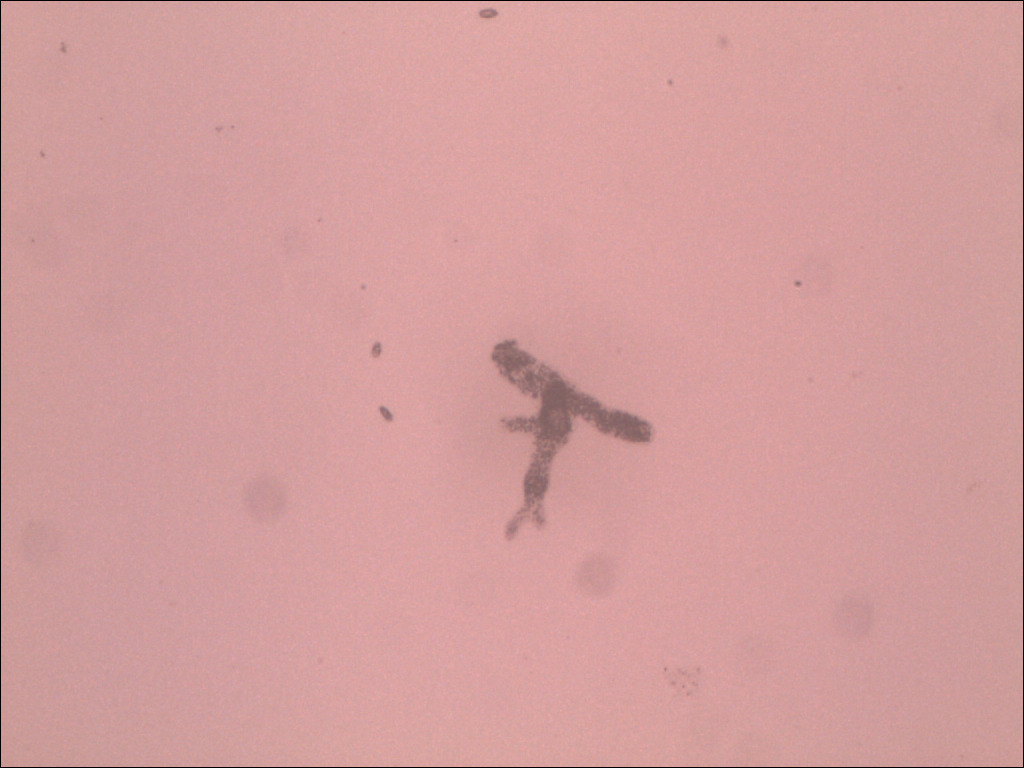amoeba: (485, 332, 670, 551)
